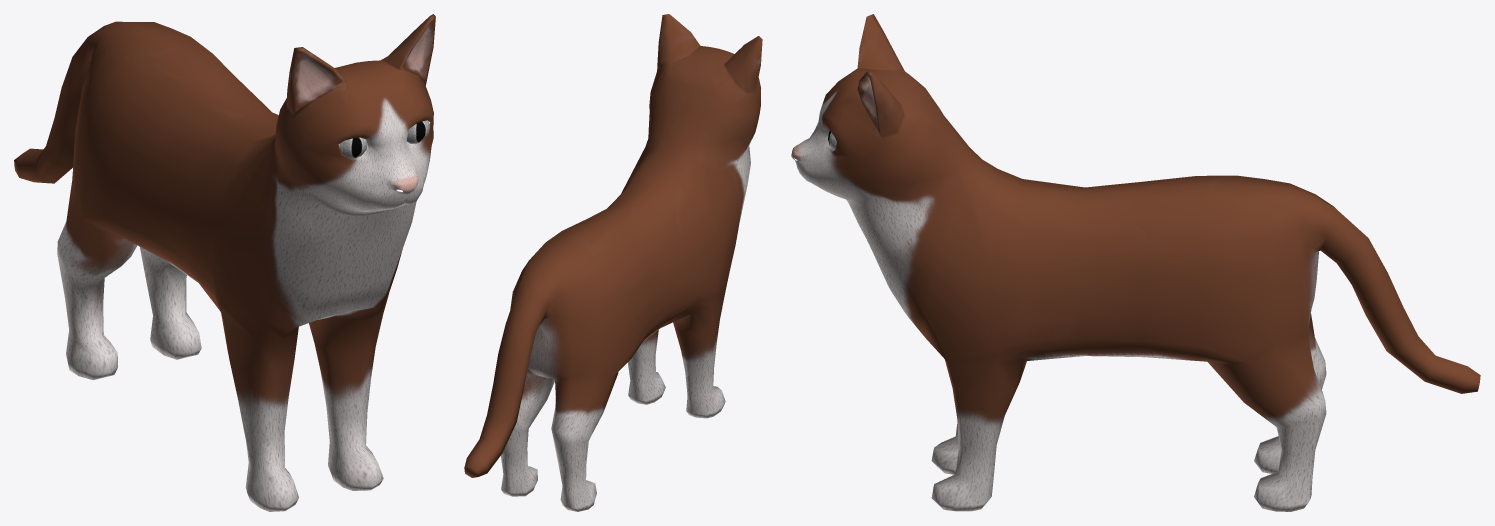
The model's file is cat_BWcinnamon.glb.
The picture shows the model from 3 angles, left to right: view 1: azimuth 30°, elevation 25°; view 2: azimuth 150°, elevation 25°; view 3: azimuth 270°, elevation 25°; orthographic projection. The views are drawn at different scales.
Parts seen in each view (by area): view 1: body cat_geo.001, cat_geo eyes.001; view 2: body cat_geo.001; view 3: body cat_geo.001.
Part boxes in pixels (x1,y1,x2,y2): body cat_geo.001: (14, 14, 435, 511); cat_geo eyes.001: (338, 120, 429, 158); body cat_geo.001: (464, 14, 762, 511); body cat_geo.001: (791, 14, 1480, 511).
Size of the model in its own units: 1572 by 5053 by 7130.
Materials: 2 (2 with a texture image).
